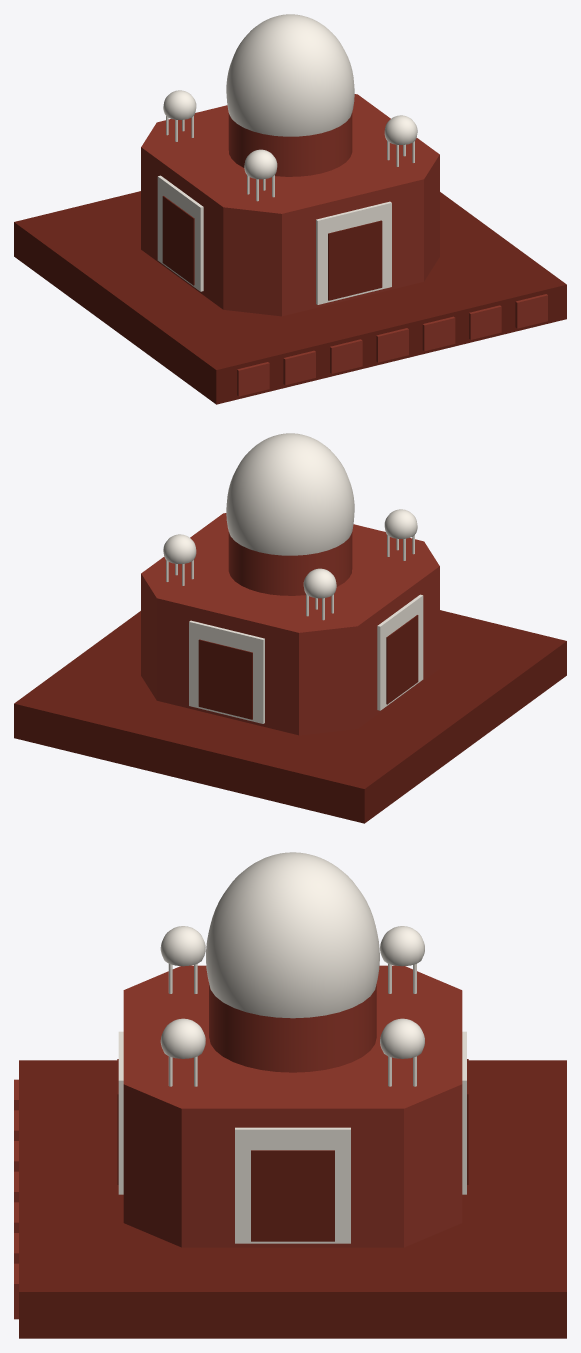
File: humayuns_tomb.glb
3 views of the same model, one above another, from view 1: azimuth 30°, elevation 25°; view 2: azimuth 150°, elevation 25°; view 3: azimuth 270°, elevation 25° (orthographic). The views are drawn at different scales.
Parts seen in each view (by area): view 1: HumayunsTombComplex; view 2: HumayunsTombComplex; view 3: HumayunsTombComplex.
Boxes of the visible parts, x1,y1,x2,y2 form: HumayunsTombComplex: (14,14,566,404); HumayunsTombComplex: (14,433,566,823); HumayunsTombComplex: (14,852,566,1338).
Size of the model in its own units: 34 by 24.9 by 34.3.
